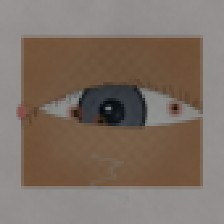foreign_body_visible: (85, 108, 117, 134)
